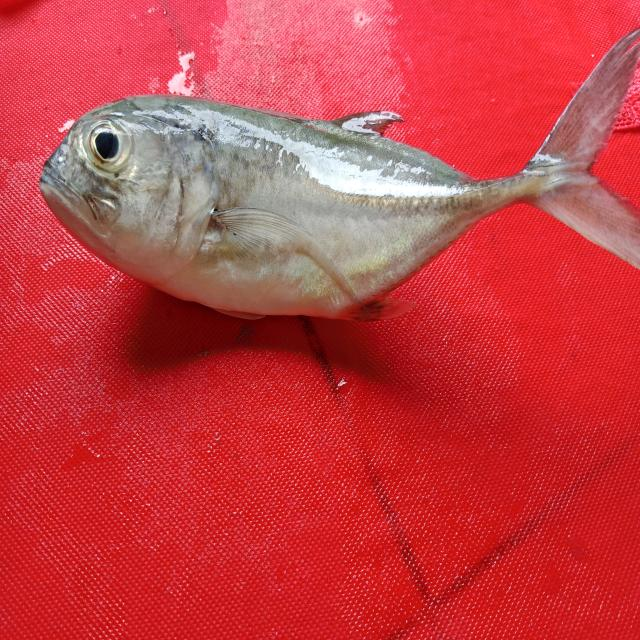ikan: (21, 18, 634, 338)
